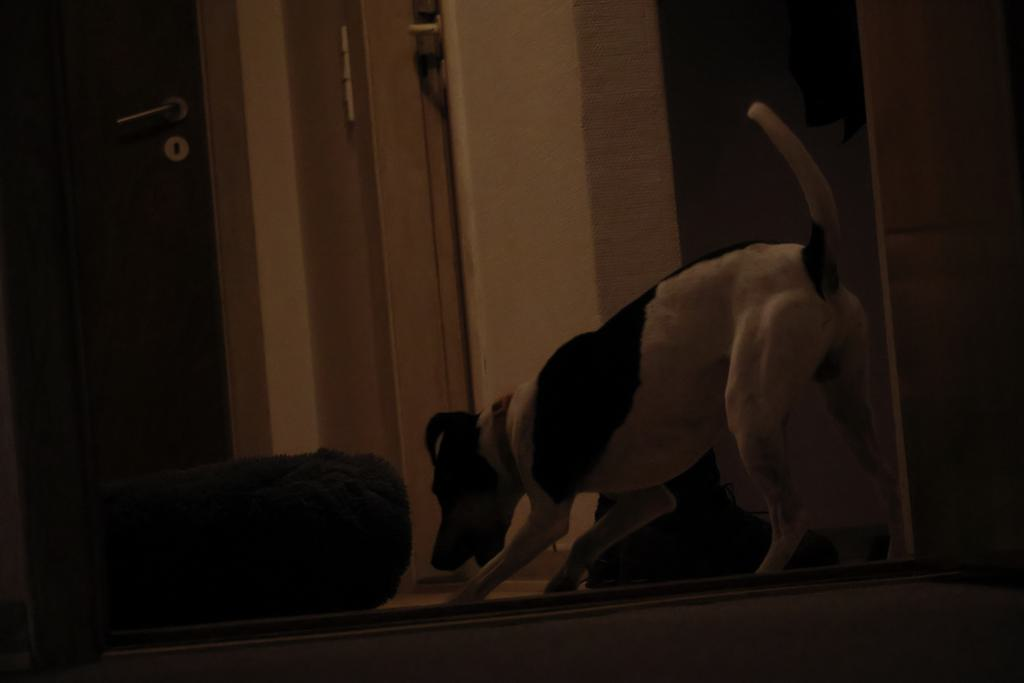Dog: (412, 92, 931, 627)
